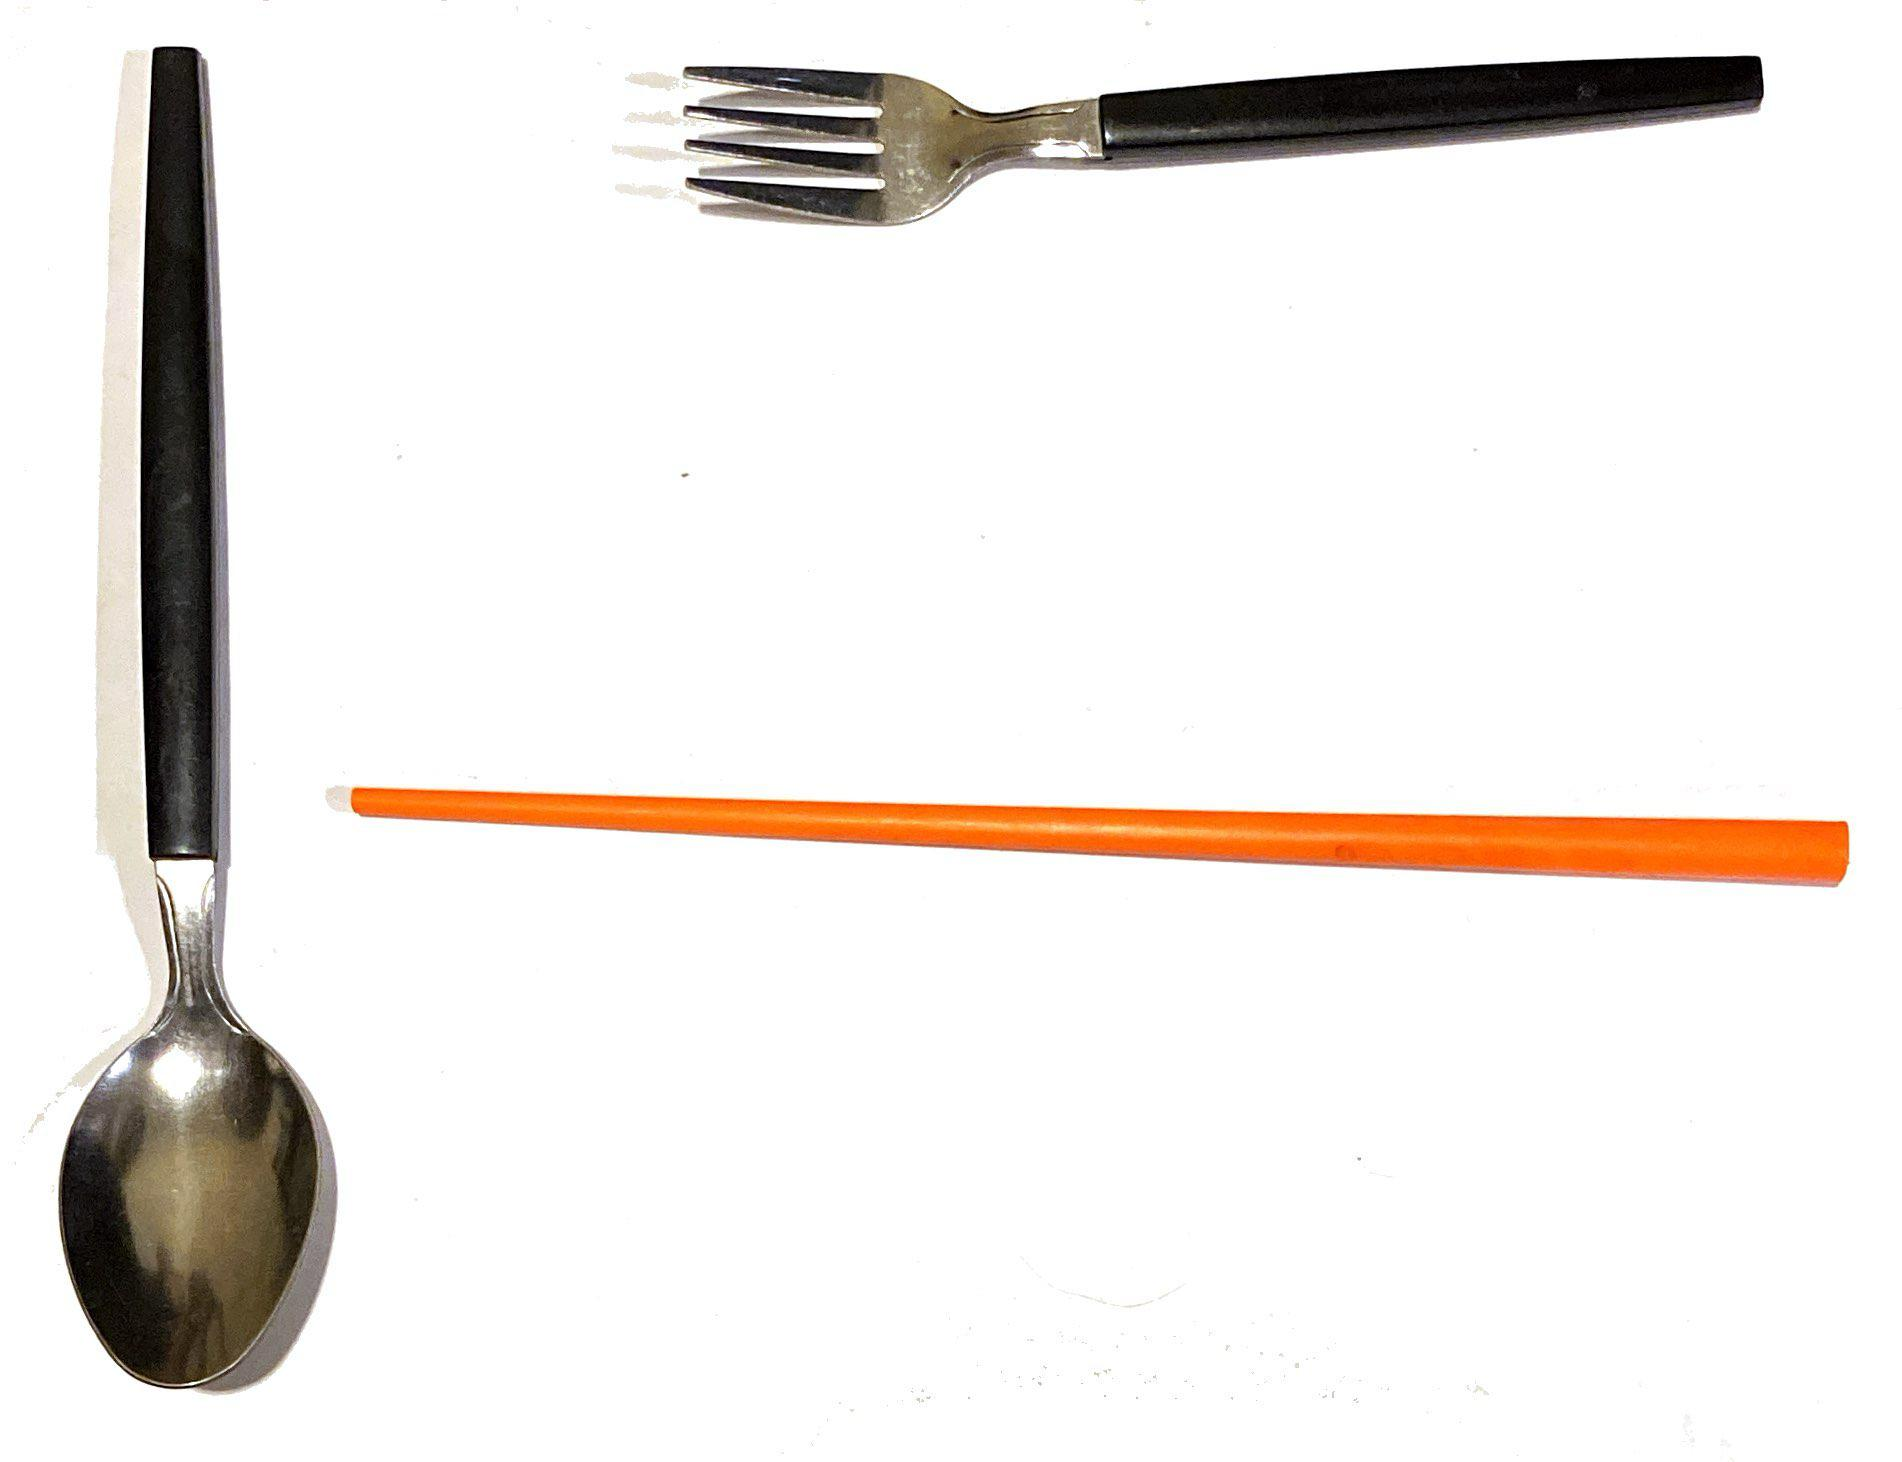Chopstick: (316, 726, 1870, 923)
Fork: (659, 12, 1841, 301)
Spoon: (31, 32, 348, 1431)
